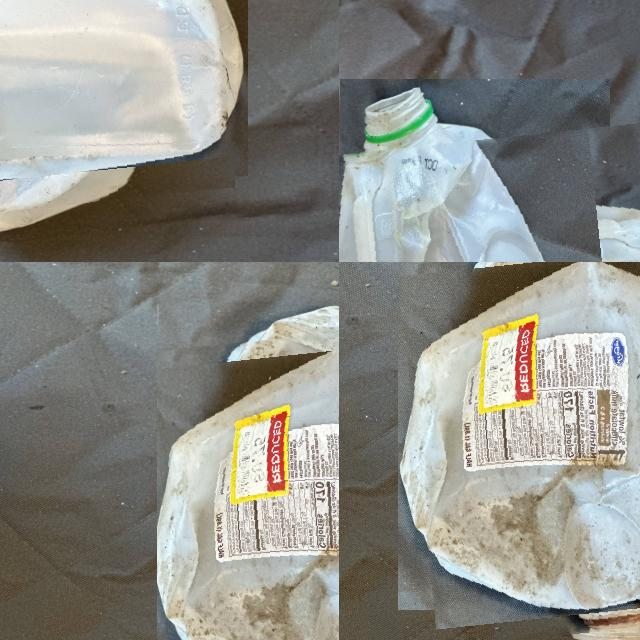milk-jug: (407, 262, 640, 637), (165, 319, 339, 640), (0, 0, 226, 215), (339, 131, 640, 262)
